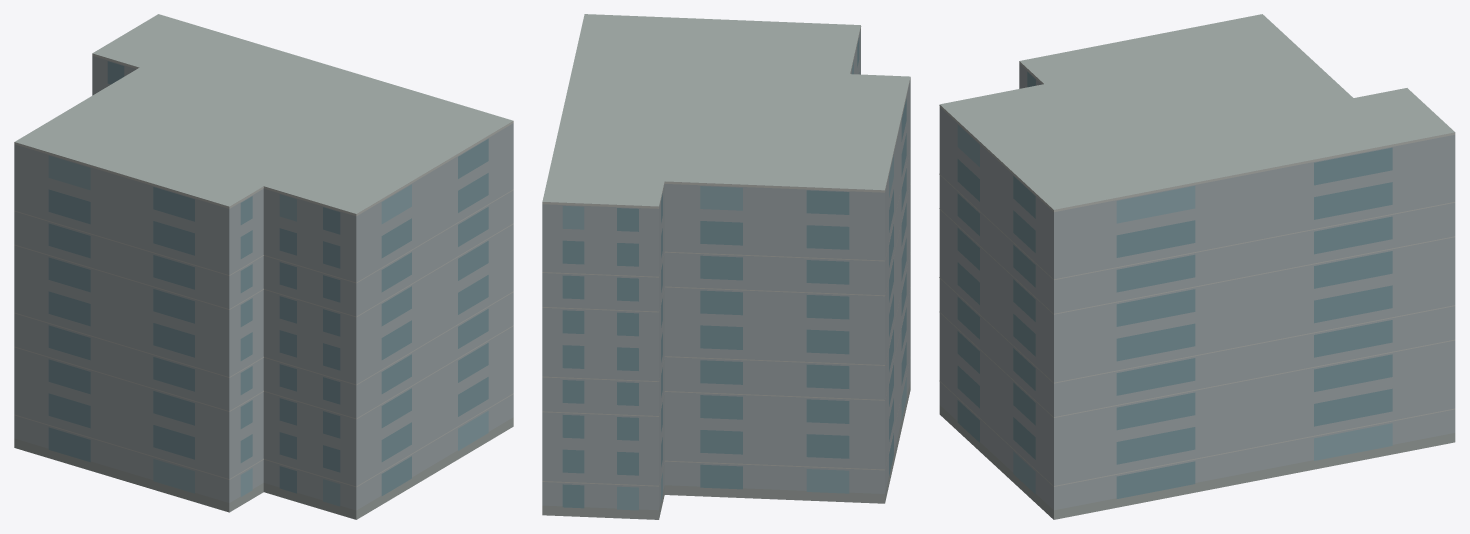
File: residential-d64c79df-ccf1-4f06-a0fb-5d2e49de5fc9.glb
3 views of the same model, side by side, from view 1: azimuth 30°, elevation 25°; view 2: azimuth 150°, elevation 25°; view 3: azimuth 270°, elevation 25° (orthographic). The views are drawn at different scales.
Visible parts, largest first — view 1: residential-d64c79df-ccf1-4f06-a0fb-5d2e49de5fc9.tmp; view 2: residential-d64c79df-ccf1-4f06-a0fb-5d2e49de5fc9.tmp; view 3: residential-d64c79df-ccf1-4f06-a0fb-5d2e49de5fc9.tmp.
Boxes of the visible parts, left/top/right/bottom form: residential-d64c79df-ccf1-4f06-a0fb-5d2e49de5fc9.tmp: left=14, top=14, right=513, bottom=519; residential-d64c79df-ccf1-4f06-a0fb-5d2e49de5fc9.tmp: left=542, top=14, right=910, bottom=519; residential-d64c79df-ccf1-4f06-a0fb-5d2e49de5fc9.tmp: left=939, top=14, right=1455, bottom=519.
Bounding box in the file's own units: 43.39 × 32 × 48.27.
